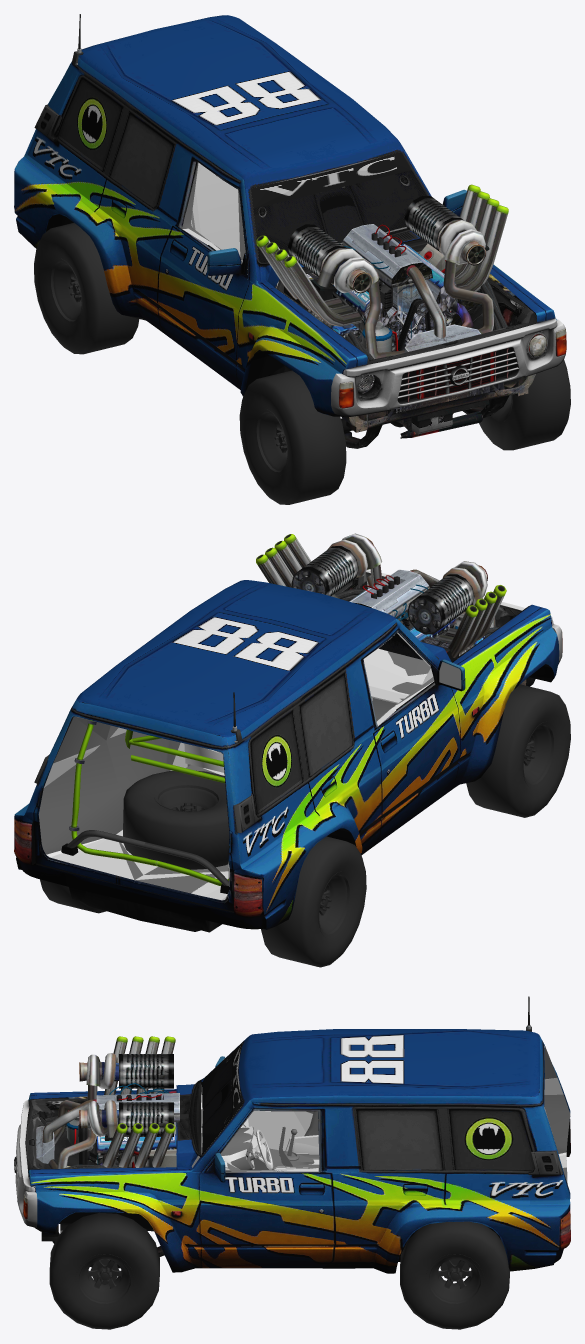
The model's file is AINissanPatrolTurbo3.fbx.
3 renders of one model, top to bottom at view 1: azimuth 30°, elevation 25°; view 2: azimuth 150°, elevation 25°; view 3: azimuth 270°, elevation 25°, orthographic. The views are drawn at different scales.
Visible parts, largest first — view 1: nissan_opengine, VTC2_TurboEngine, r_front_opengine_tyre, r_rear_opengine_tyre, opengine_windscreen, l_front_opengine_tyre, Interior_lo, windscreentext, opengine_sidelight; view 2: nissan_opengine, r_rear_opengine_tyre (×2), VTC2_TurboEngine, opengine_interior, r_front_opengine_tyre, Interior_lo, l_rear_opengine_tyre, opengine_seats; view 3: nissan_opengine, VTC2_TurboEngine, l_front_opengine_tyre, l_rear_opengine_tyre, opengine_interior, Interior_lo, opengine_windscreen, windscreentext.
Part boxes in pixels (x1,y1,x2,y2): nissan_opengine: [14, 14, 565, 448]; VTC2_TurboEngine: [256, 184, 536, 364]; r_front_opengine_tyre: [239, 370, 346, 504]; r_rear_opengine_tyre: [34, 223, 139, 354]; opengine_windscreen: [253, 170, 426, 262]; l_front_opengine_tyre: [479, 360, 570, 450]; Interior_lo: [182, 164, 247, 274]; windscreentext: [251, 152, 411, 208]; opengine_sidelight: [339, 328, 566, 408]; nissan_opengine: [14, 570, 562, 932]; r_rear_opengine_tyre (×2): [123, 770, 366, 967]; VTC2_TurboEngine: [256, 533, 530, 662]; opengine_interior: [38, 646, 434, 899]; r_front_opengine_tyre: [466, 684, 570, 817]; Interior_lo: [44, 632, 433, 900]; l_rear_opengine_tyre: [40, 879, 106, 913]; opengine_seats: [184, 743, 224, 772]; nissan_opengine: [14, 996, 570, 1273]; VTC2_TurboEngine: [26, 1036, 179, 1177]; l_front_opengine_tyre: [49, 1212, 159, 1329]; l_rear_opengine_tyre: [400, 1221, 509, 1329]; opengine_interior: [191, 1045, 570, 1183]; Interior_lo: [201, 1046, 566, 1171]; opengine_windscreen: [202, 1052, 231, 1154]; windscreentext: [232, 1042, 242, 1117].
Bounding box in the file's own units: 2.15 × 2.16 × 4.41.
